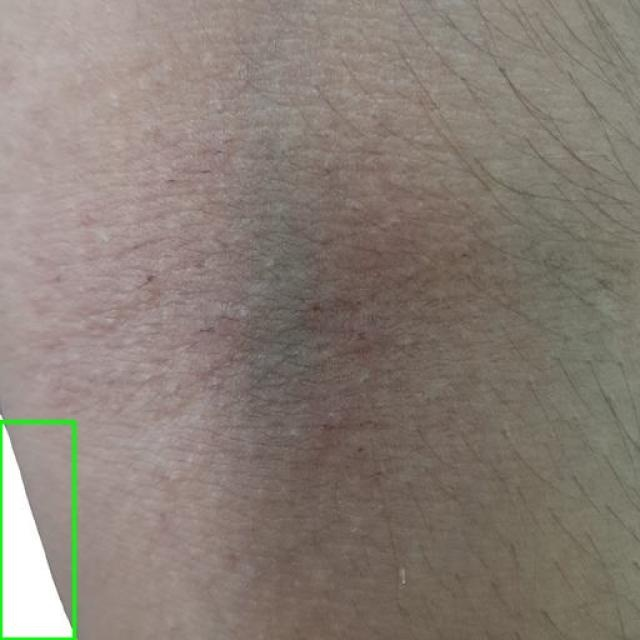Contact Dermatitis: (0, 421, 74, 639)
